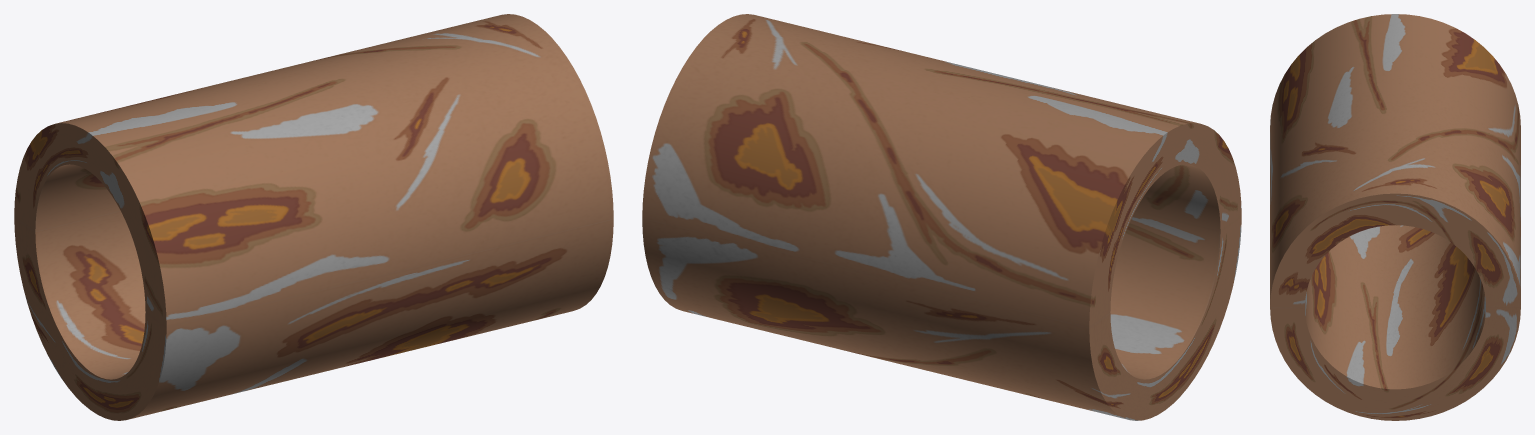
Rendered from Straight rusty pipe.fbx.
3 views of the same model, side by side, from view 1: azimuth 30°, elevation 25°; view 2: azimuth 150°, elevation 25°; view 3: azimuth 270°, elevation 25° (orthographic). The views are drawn at different scales.
Visible parts, largest first — view 1: StraightPipe; view 2: StraightPipe; view 3: StraightPipe.
Boxes of the visible parts, box(x1,y1,x2,y2) form: StraightPipe: box(14, 14, 613, 420); StraightPipe: box(642, 14, 1241, 420); StraightPipe: box(1270, 14, 1520, 420).
Size of the model in its own units: 110 by 65 by 65.
1 material, 1 textured.
